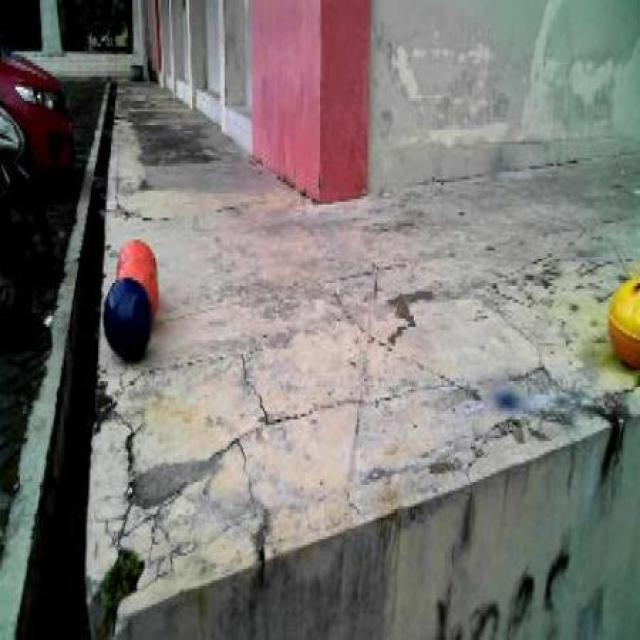buoy: (100, 271, 156, 369), (604, 264, 639, 387), (111, 254, 162, 326), (112, 227, 162, 282)
